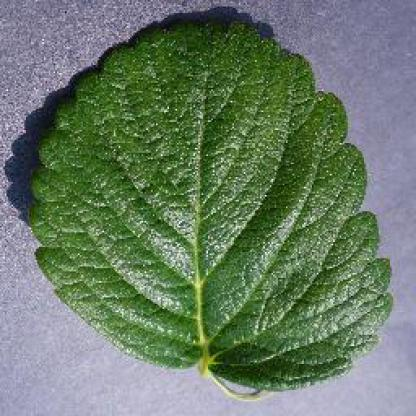healthy: (23, 12, 396, 406)
